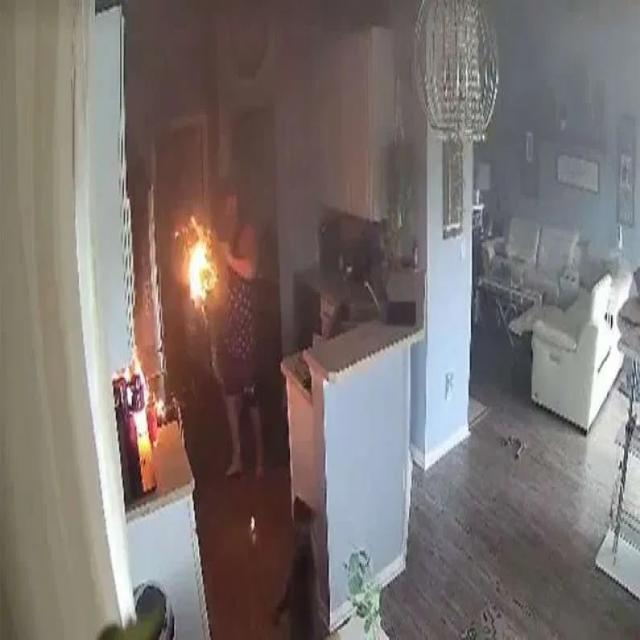fire: (187, 216, 219, 299)
